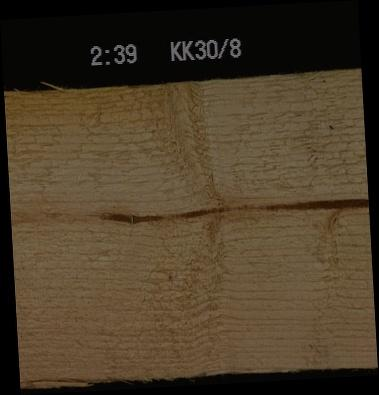split: (59, 196, 366, 218), (19, 371, 94, 383)
